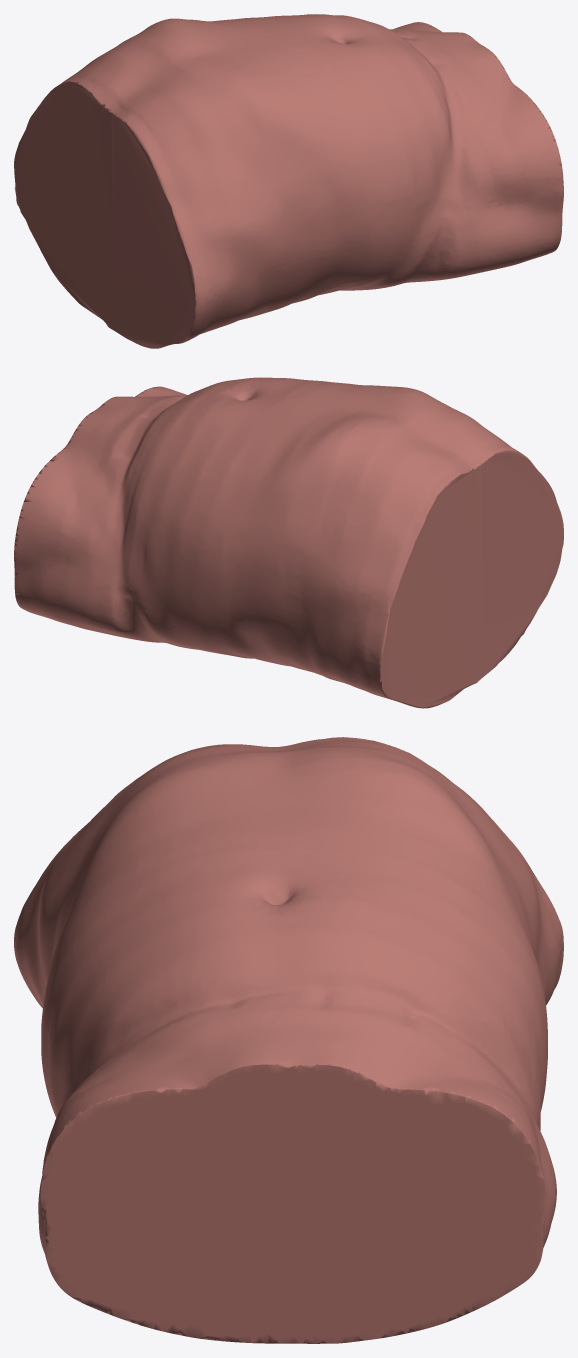
File: Skin.obj
3 views of the same model, one above another, from view 1: azimuth 30°, elevation 25°; view 2: azimuth 150°, elevation 25°; view 3: azimuth 270°, elevation 25° (orthographic). The views are drawn at different scales.
Visible parts, largest first — view 1: SkinStart; view 2: SkinStart; view 3: SkinStart.
Boxes of the visible parts, box(x1,y1,x2,y2) form: SkinStart: box(14, 14, 563, 348); SkinStart: box(14, 377, 563, 708); SkinStart: box(14, 737, 563, 1343).
Bounding box in the file's own units: 18.43 × 11.9 × 15.45.
